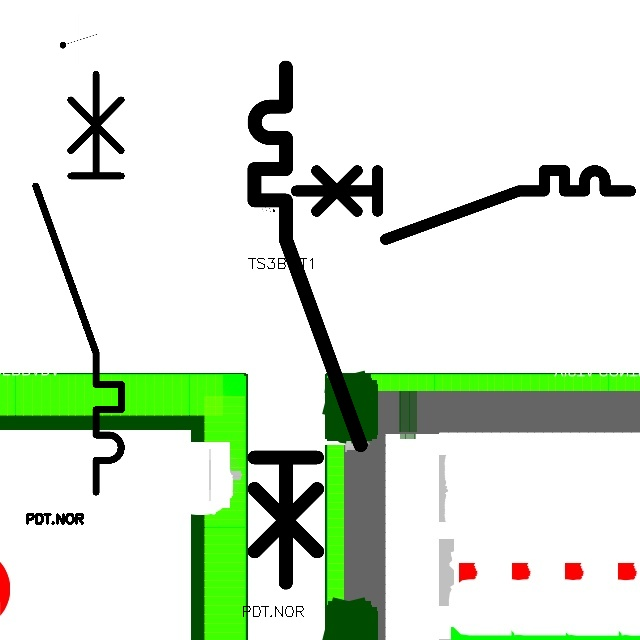interruptor_termomagnetico: (241, 54, 374, 596), (25, 63, 132, 502), (287, 162, 639, 248)
